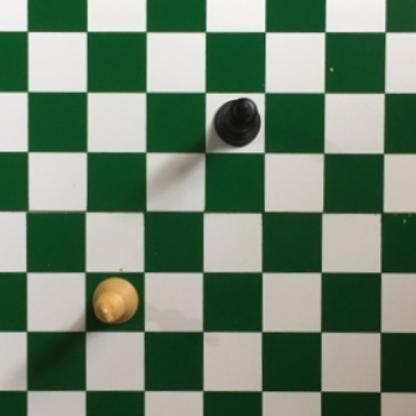black-king: (213, 96, 261, 147)
white-king: (90, 277, 139, 326)
